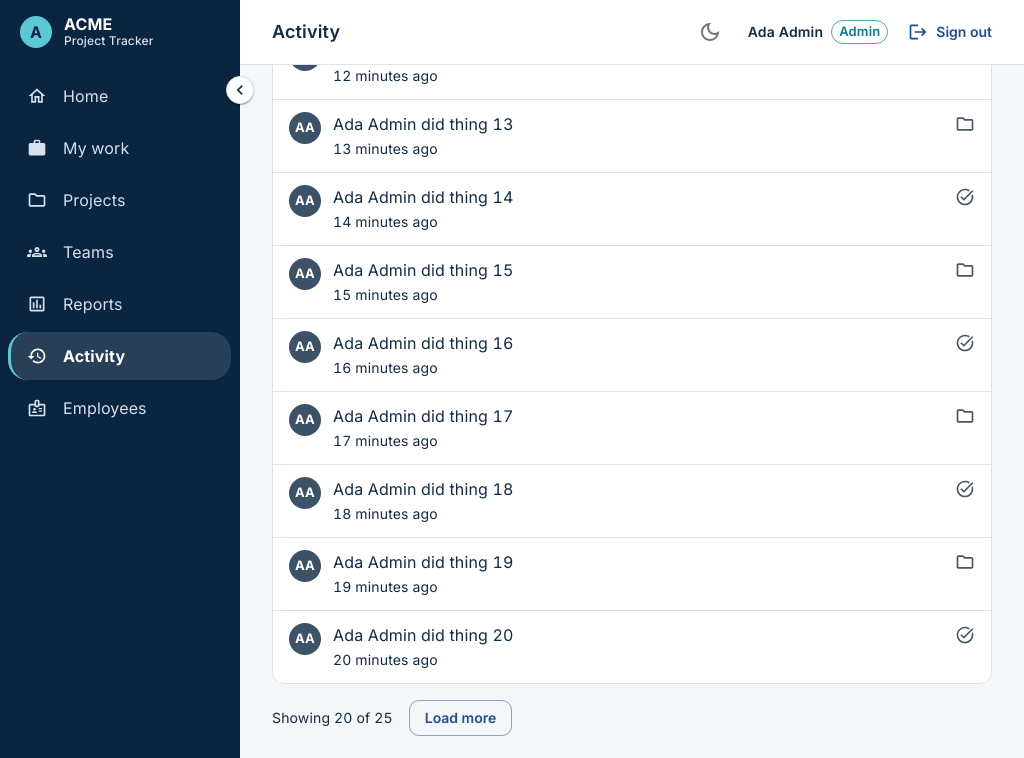
Scenario: Activity page › admin sees the feed newest first, pages with "Load more" and filters by type
(page scrolled)
Click the button "Load more" at (460, 718), box x1=409 y1=700 x2=512 y2=736
(page scrolled)
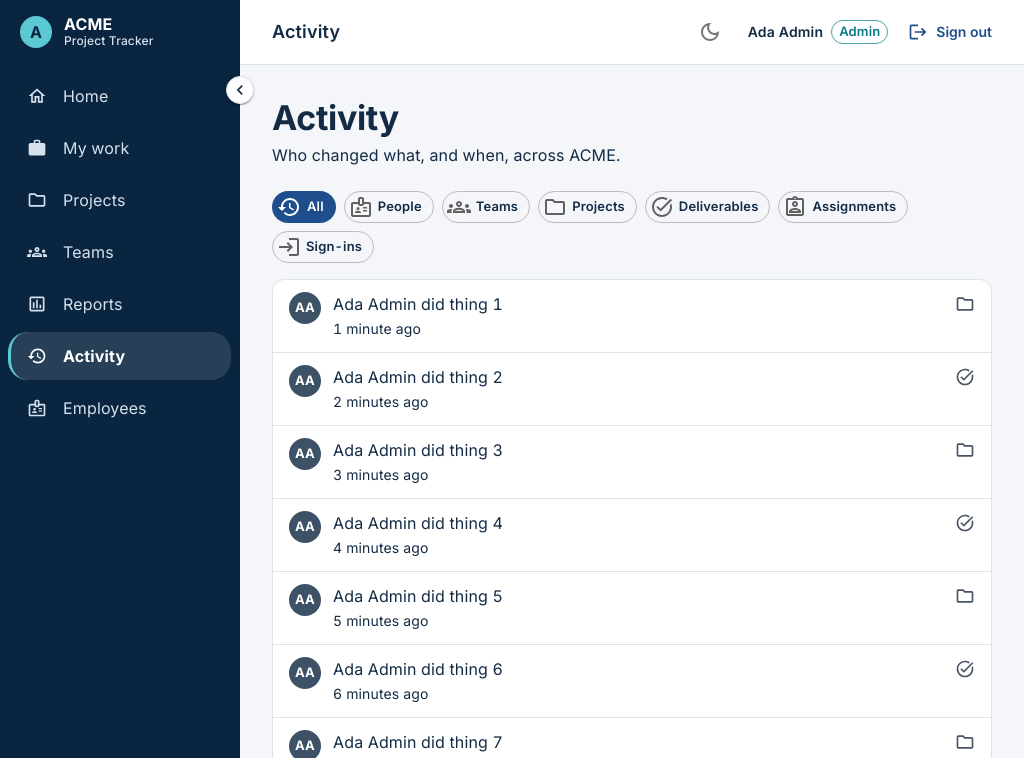
Check: the button "Load more" is gone
Click the button "Deliverables" at (708, 207), box x1=645 y1=191 x2=770 y2=223
(page scrolled)
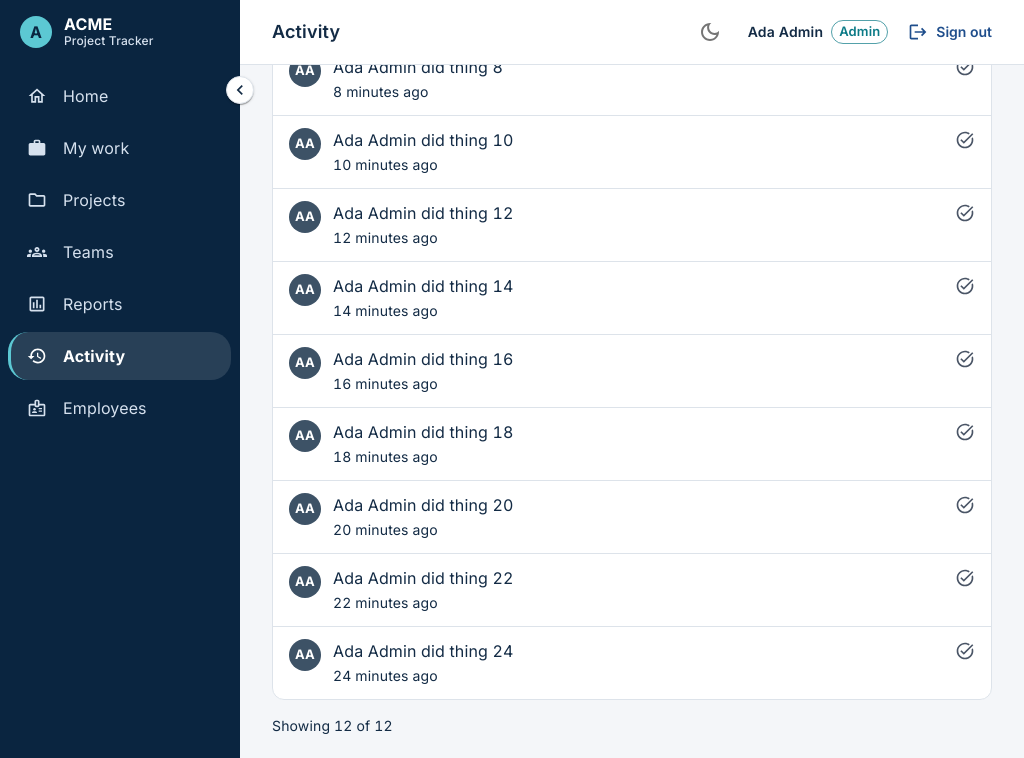
Check: the text "Showing 12 of 12" is shown, box x1=272 y1=716 x2=393 y2=736
